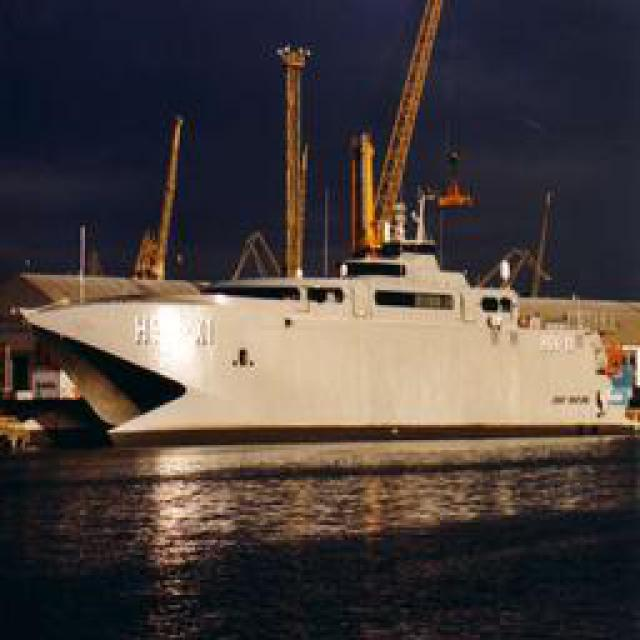Ship: (22, 249, 625, 469)
